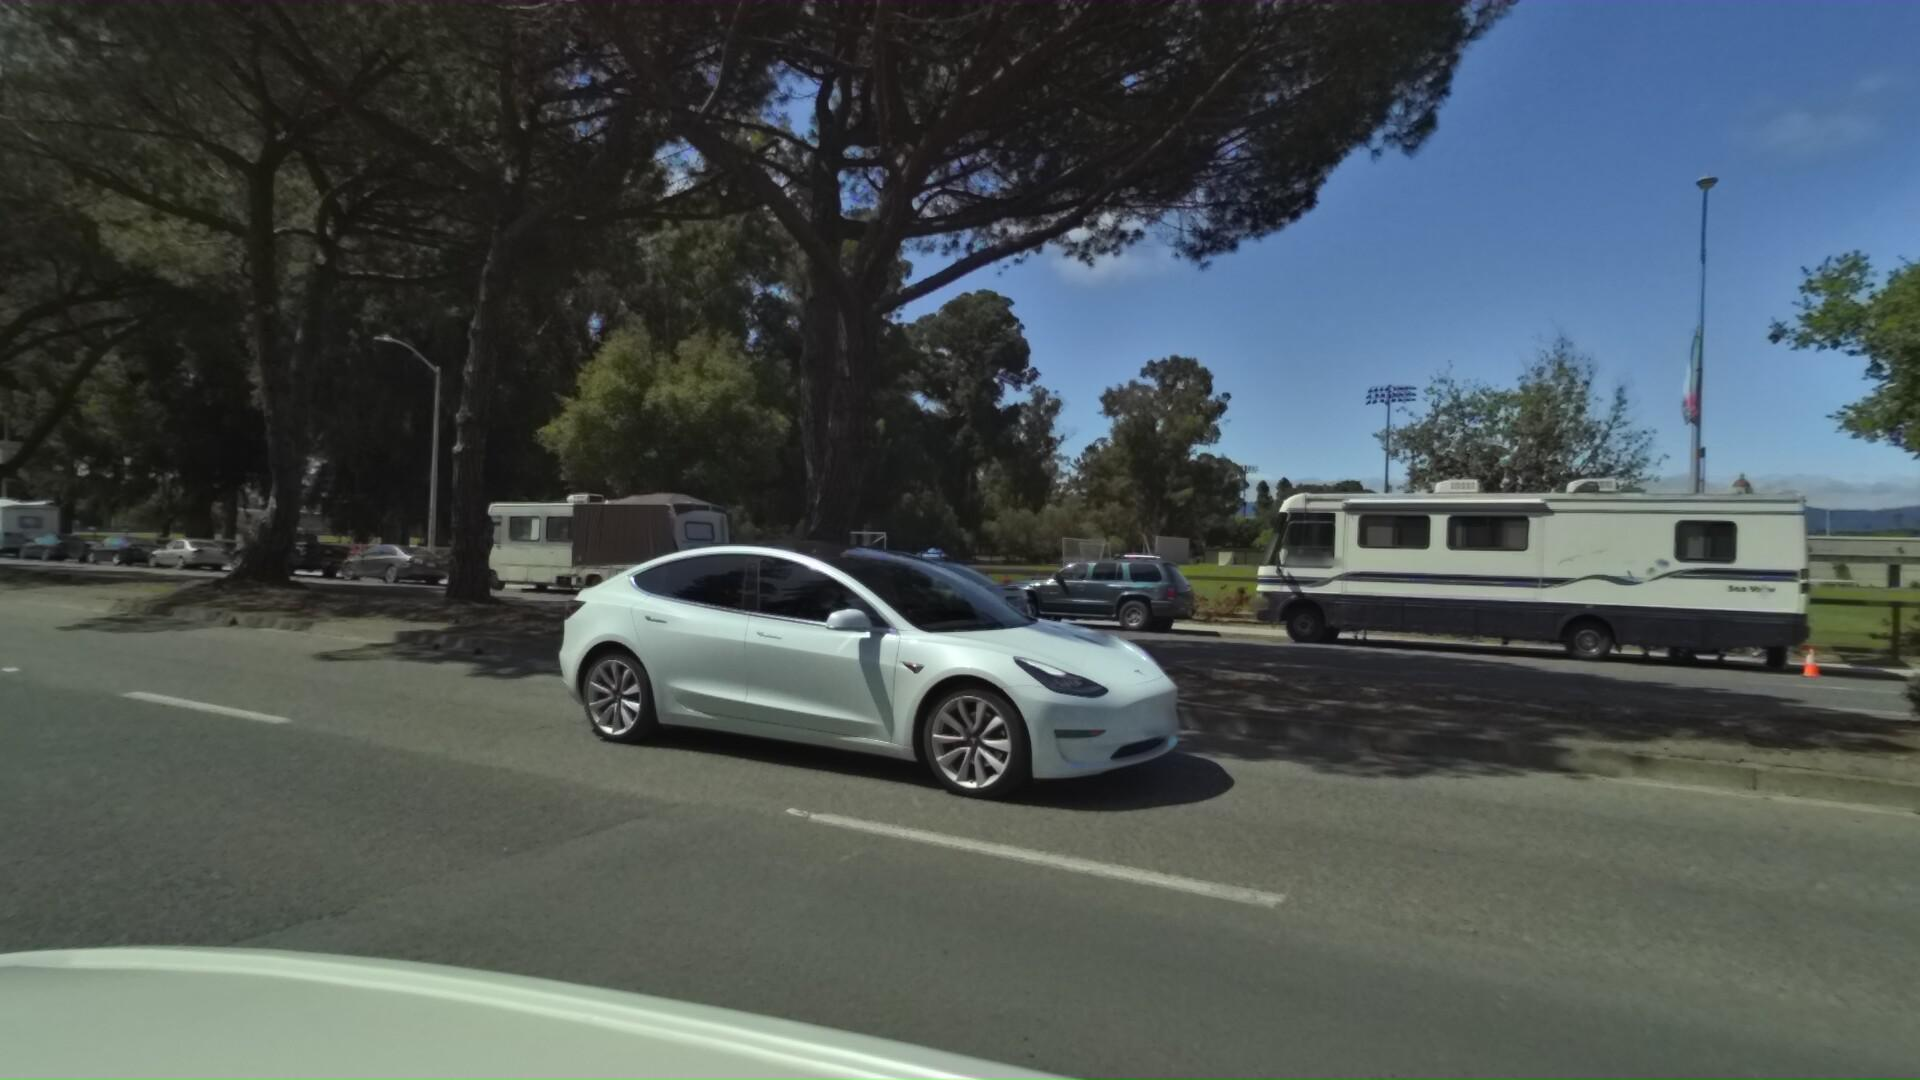car: (526, 516, 1249, 840), (687, 546, 968, 647), (963, 541, 1178, 640), (767, 559, 949, 621), (216, 527, 349, 579), (320, 539, 447, 591), (137, 535, 231, 574), (76, 531, 167, 568), (11, 531, 98, 564)
other_vehicle: (1207, 465, 1780, 680), (451, 489, 727, 607), (0, 497, 67, 562)
